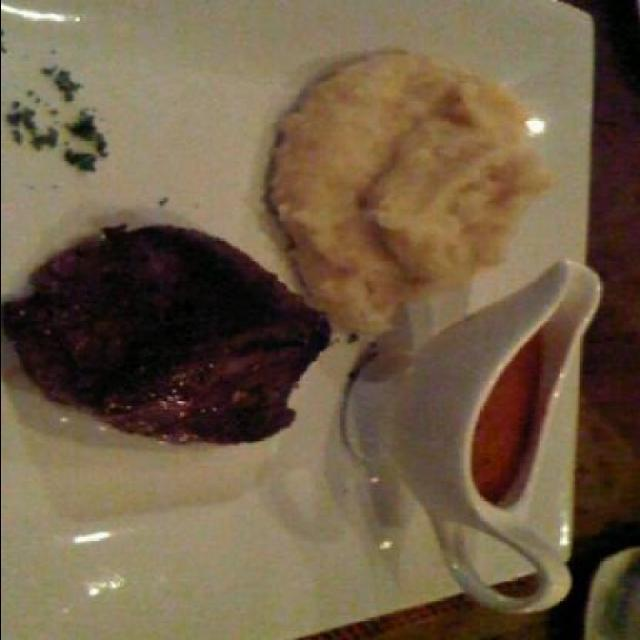Steak: (15, 220, 297, 477)
